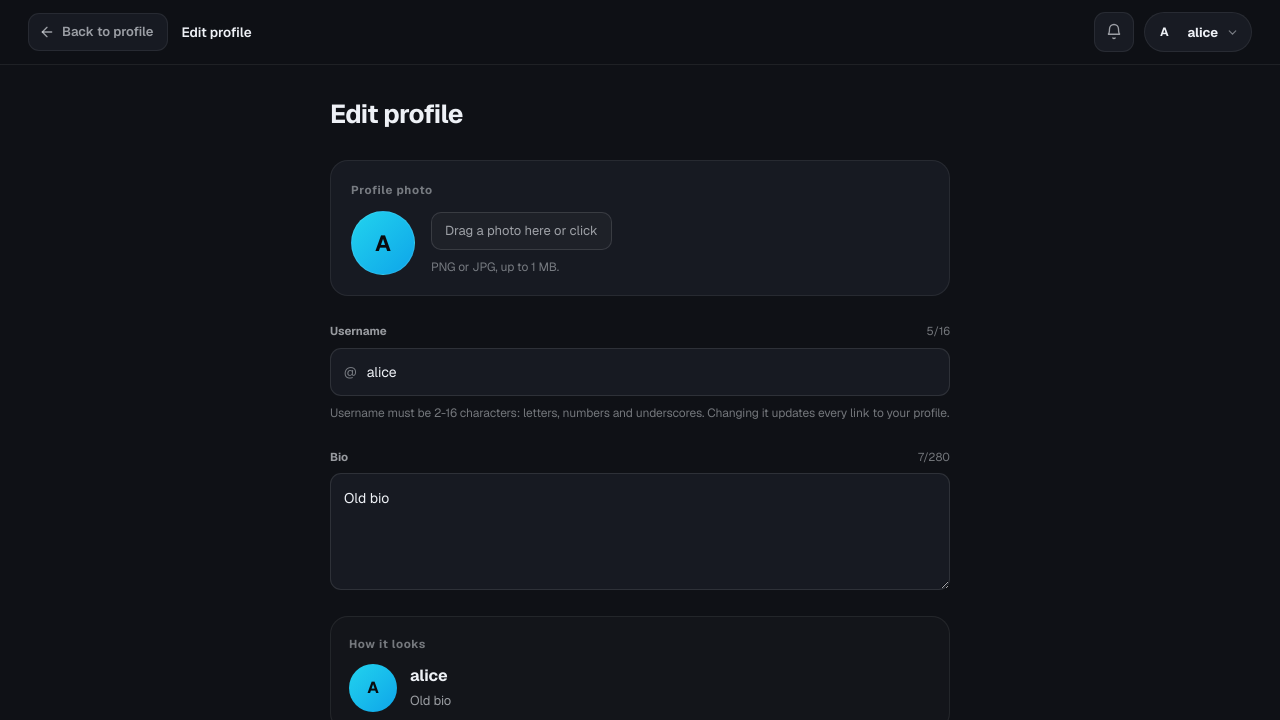
Test: ProfileEditForm › saves the new bio and shows an inline Saved confirmation without navigating
Replace the text in the text box showing "Old bio" with "New bio" at (640, 532), box top-left (330, 473), bottom-right (950, 590)
(page scrolled)
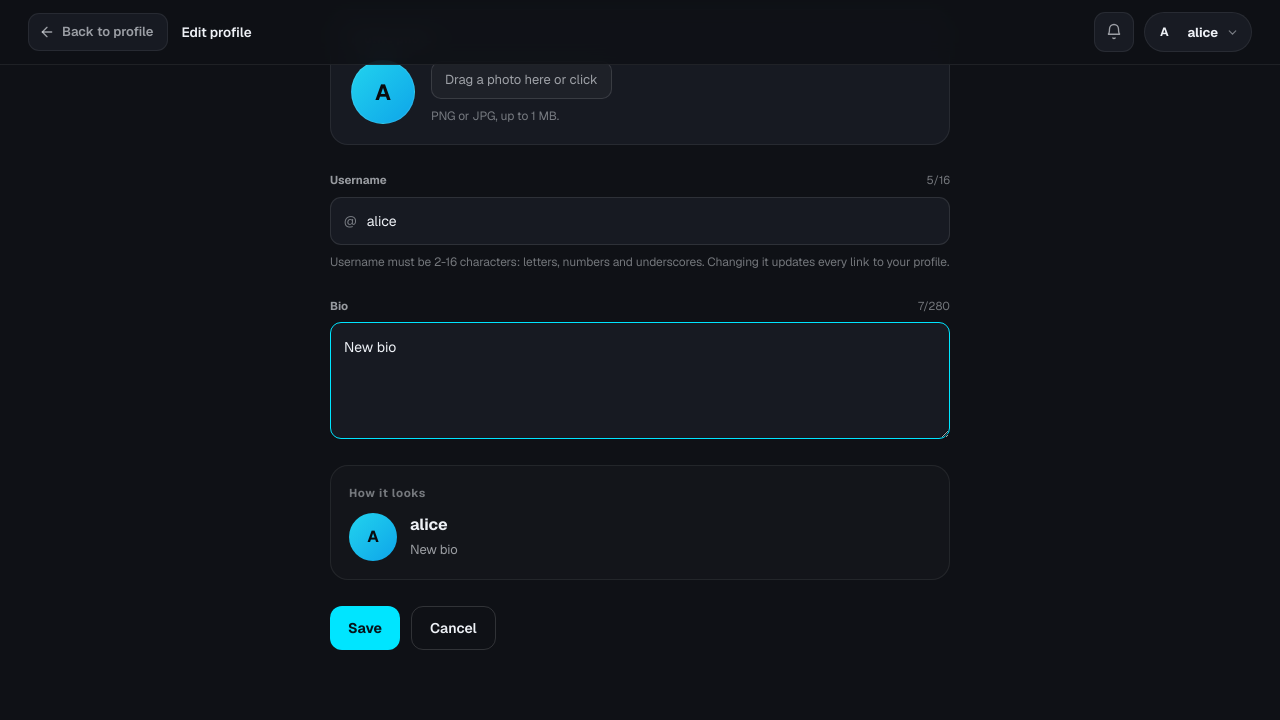
Click the button "Save" at (365, 628), box top-left (330, 606), bottom-right (400, 650)
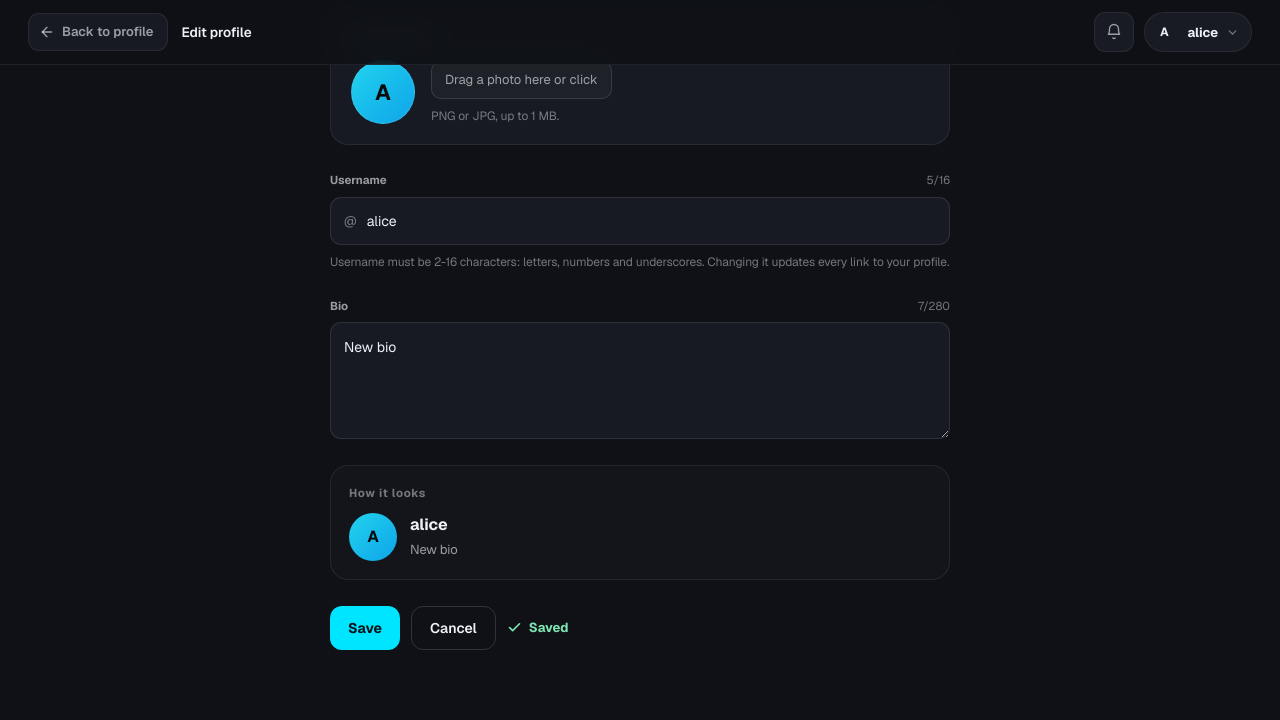
Expected: the text "Saved" is shown, top-left (507, 618), bottom-right (568, 637)
